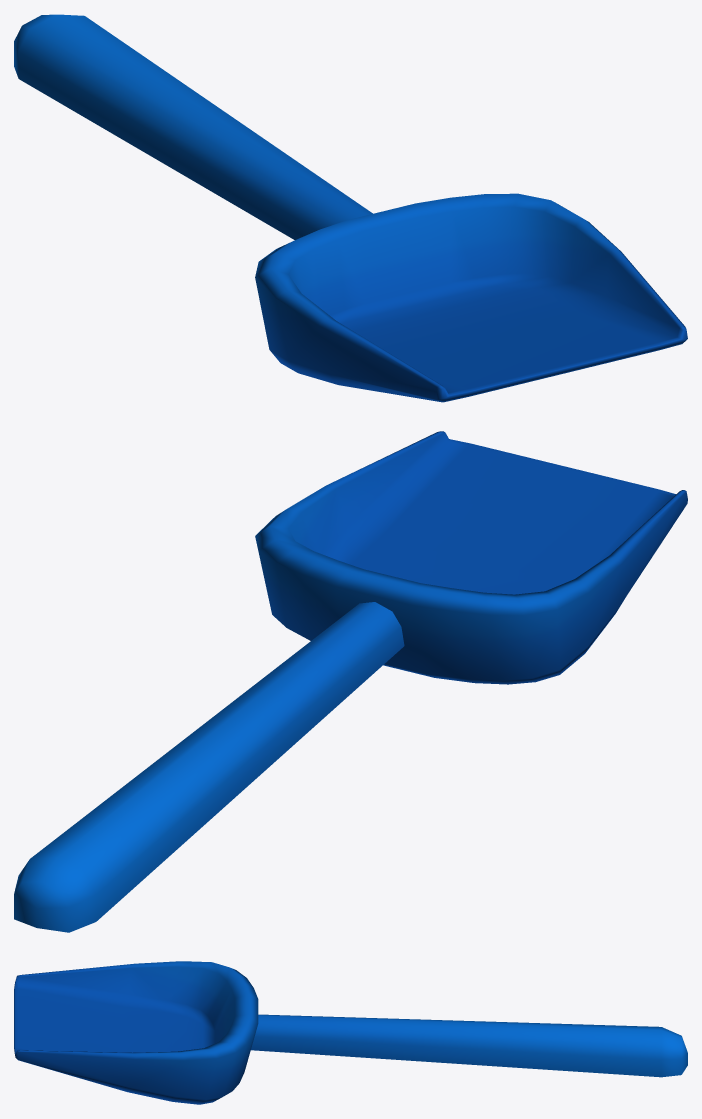
The model's file is scoop.fbx.
3 views of the same model, one above another, from view 1: azimuth 30°, elevation 25°; view 2: azimuth 150°, elevation 25°; view 3: azimuth 270°, elevation 25° (orthographic). The views are drawn at different scales.
Visible parts, largest first — view 1: scoop; view 2: scoop; view 3: scoop.
Part boxes in pixels (x1=…): scoop: x1=14, y1=14, x2=687, y2=402; scoop: x1=14, y1=431, x2=687, y2=932; scoop: x1=14, y1=961, x2=687, y2=1104.
Size of the model in its own units: 9.89 by 2.95 by 28.92.
